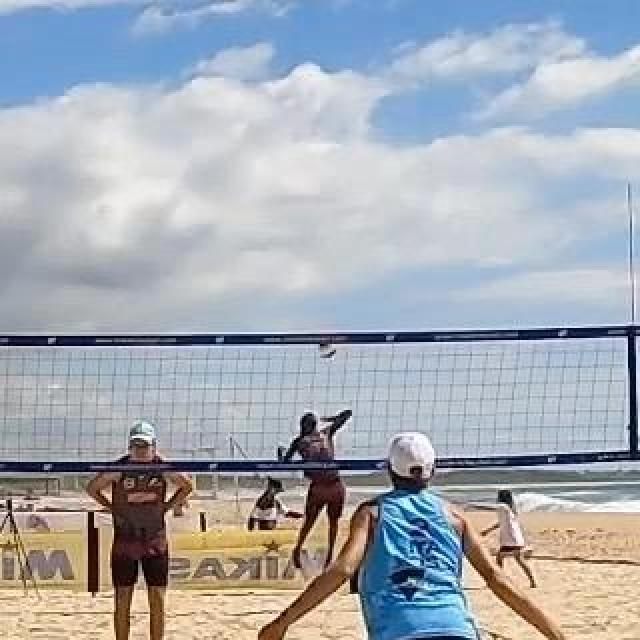volleyball: (317, 338, 337, 358)
